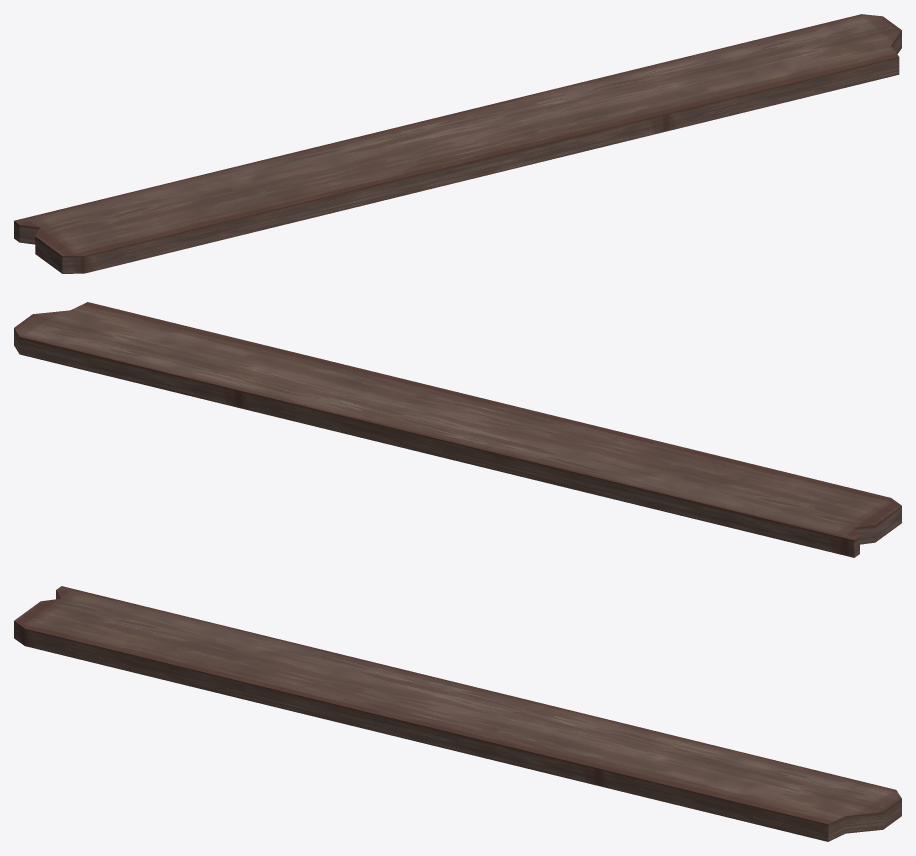
Rendered from Coast Plank.fbx.
The picture shows the model from 3 angles, top to bottom: view 1: azimuth 30°, elevation 25°; view 2: azimuth 150°, elevation 25°; view 3: azimuth 330°, elevation 25°; orthographic projection.
Visible parts, largest first — view 1: Plank; view 2: Plank; view 3: Plank.
Boxes of the visible parts, box(x1,y1,x2,y2) form: Plank: box(14, 14, 901, 273); Plank: box(14, 302, 901, 557); Plank: box(14, 586, 901, 841).
Size of the model in its own units: 1855 by 37.05 by 200.
